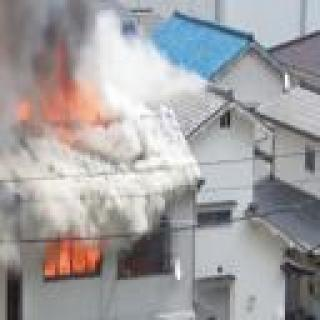fire: (9, 55, 119, 127), (43, 238, 107, 285)
